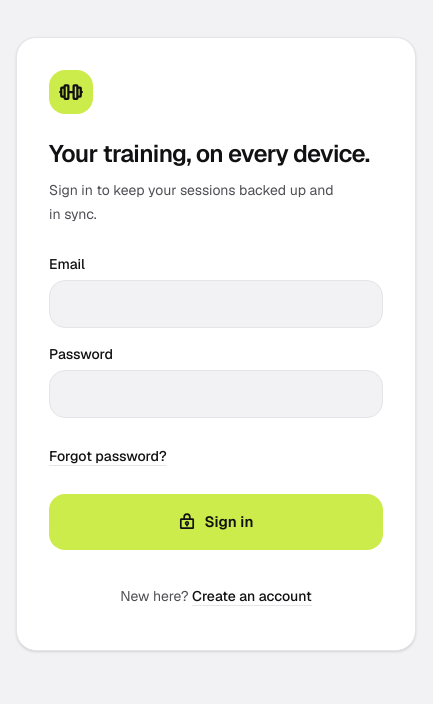
Test: AuthScreen signup confirmations › does not reveal an existing account when Supabase returns its opaque signup response
This screenshot has width=433, height=704.
Click the button "Create an account".
click(252, 596)  # box [192, 574, 312, 618]
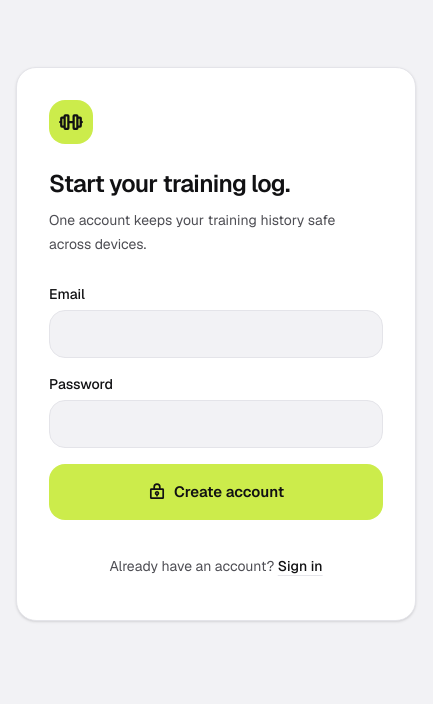
Type "existing@example.com" into the field labelled "Email".
click(216, 334); type("existing@example.com")  # box [49, 310, 383, 358]
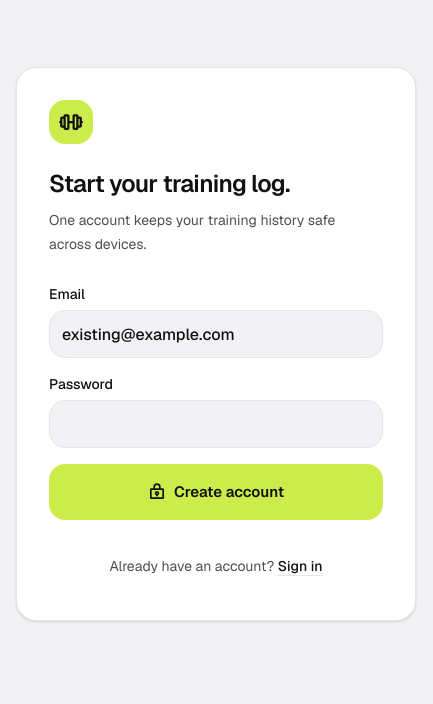
Type "strong-password" into the password field labelled "Password".
click(216, 424); type("strong-password")  # box [49, 400, 383, 448]
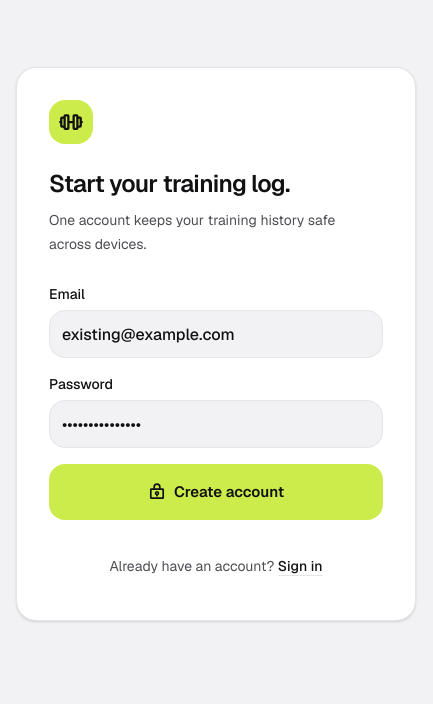
Submit the form "Create account", box [49, 284, 383, 520]
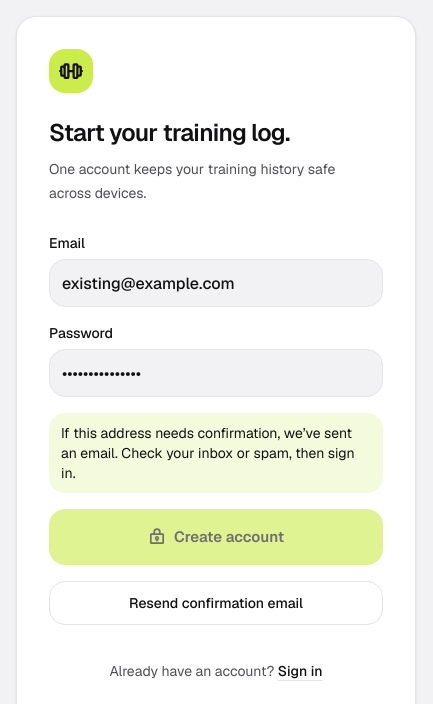
Check: the text "If this address needs confirmation" is shown, box [61, 424, 355, 482]
